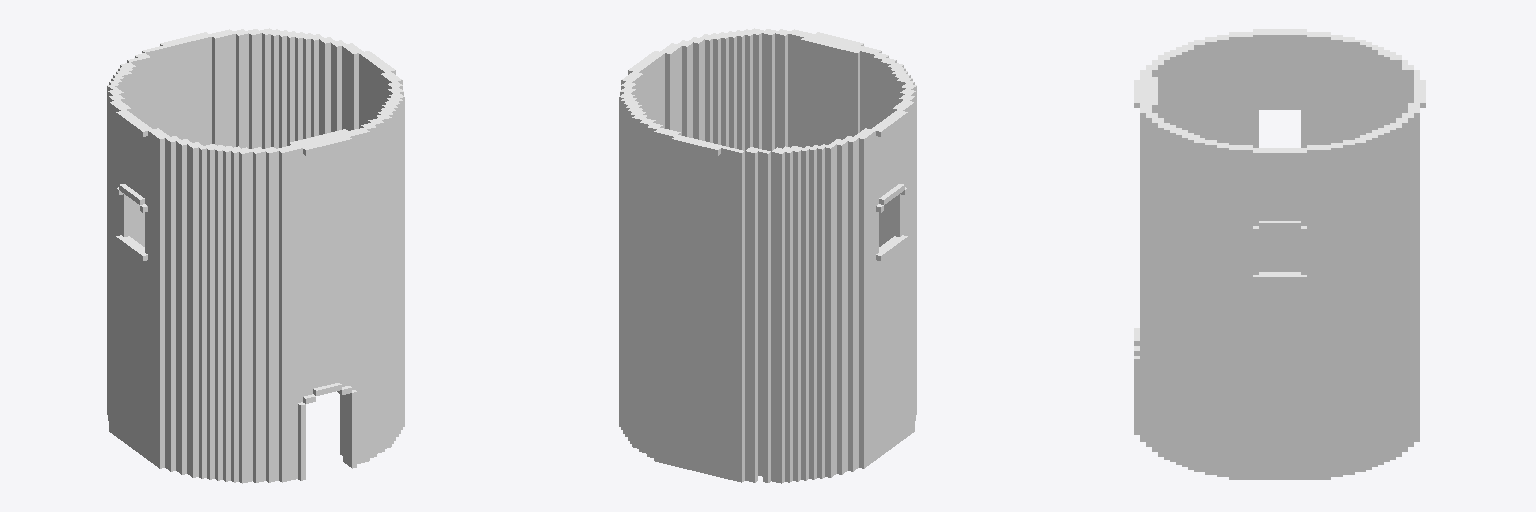
File: farm-2-windmill.obj
3 renders of one model, left to right at view 1: azimuth 30°, elevation 25°; view 2: azimuth 150°, elevation 25°; view 3: azimuth 270°, elevation 25°, orthographic.
Parts seen in each view (by area): view 1: windmill; view 2: windmill; view 3: windmill.
Boxes of the visible parts, <box> form: windmill: <box>107,28,404,483</box>; windmill: <box>619,28,916,483</box>; windmill: <box>1134,29,1425,479</box>.
Size of the model in its own units: 4.9 by 6.1 by 4.9.